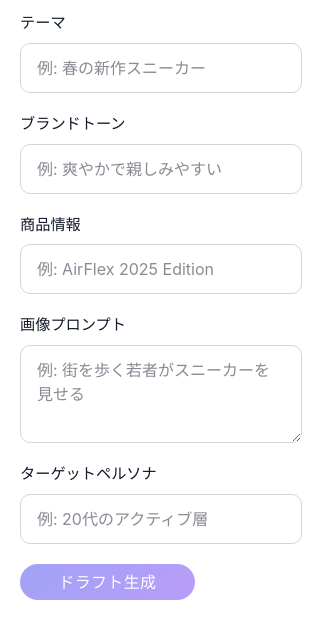
Test: GenerationForm › disables submit button until required fields are filled
Expected: the button "ドラフト生成" is disabled, [20, 564, 195, 600]
In the field labelled "テーマ": (161, 68) [20, 43, 302, 93], type " 春の新作 "
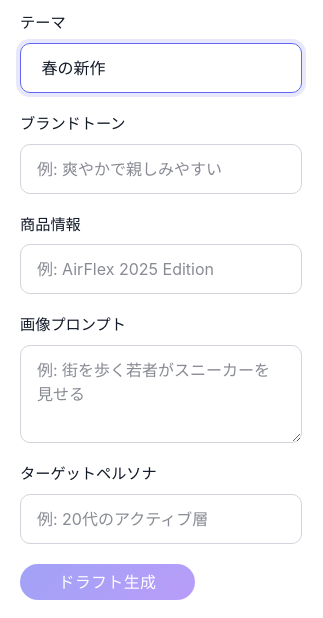
In the field labelled "ブランドトーン": (161, 169) [20, 144, 302, 194], type " 爽やか "
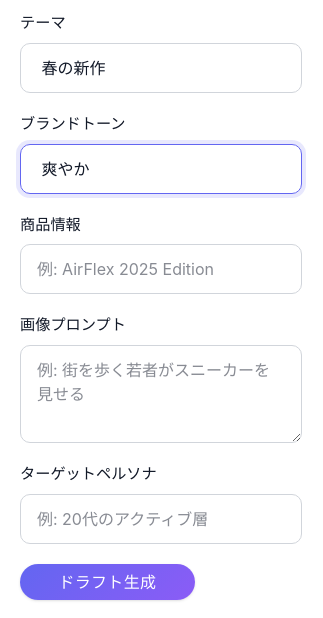
Expected: the button "ドラフト生成" is enabled, [20, 564, 195, 600]
